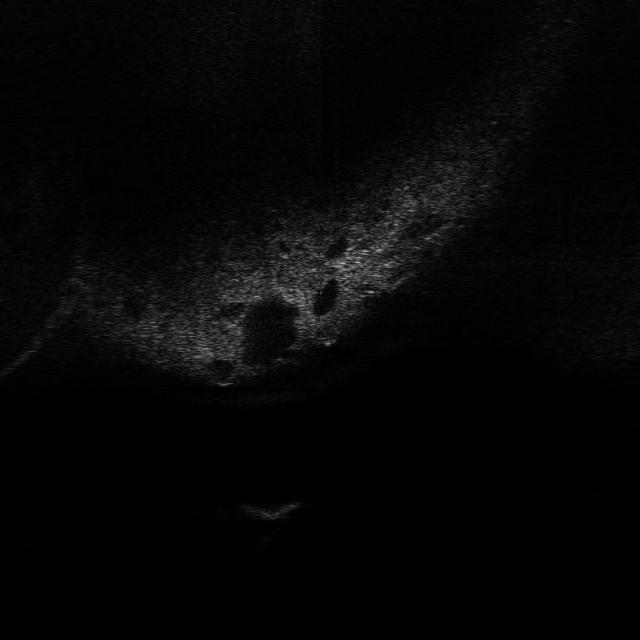ball: (308, 319, 344, 347)
cube: (232, 496, 302, 524)
